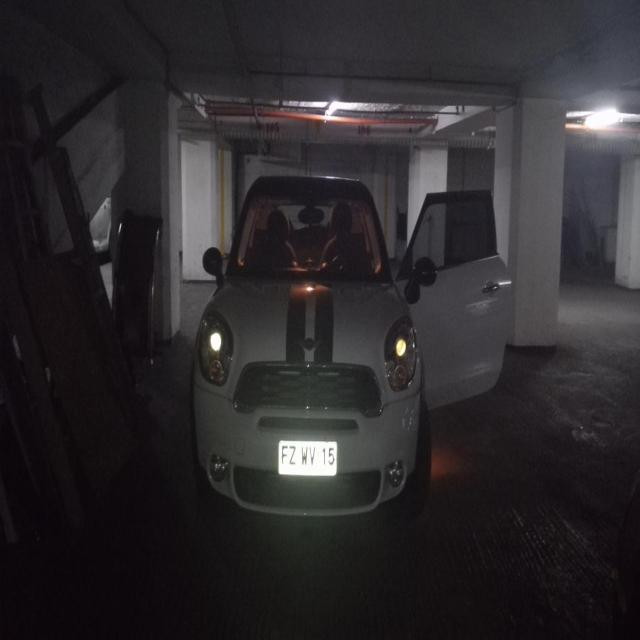patente: (277, 438, 337, 477)
